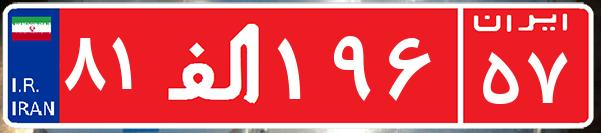1: (273, 28, 330, 110), (110, 28, 158, 105)
5: (475, 38, 525, 113)
6: (385, 28, 445, 110)
7: (525, 38, 570, 115)
8: (57, 26, 110, 107)
9: (330, 28, 385, 110)
الف: (158, 15, 273, 115)
